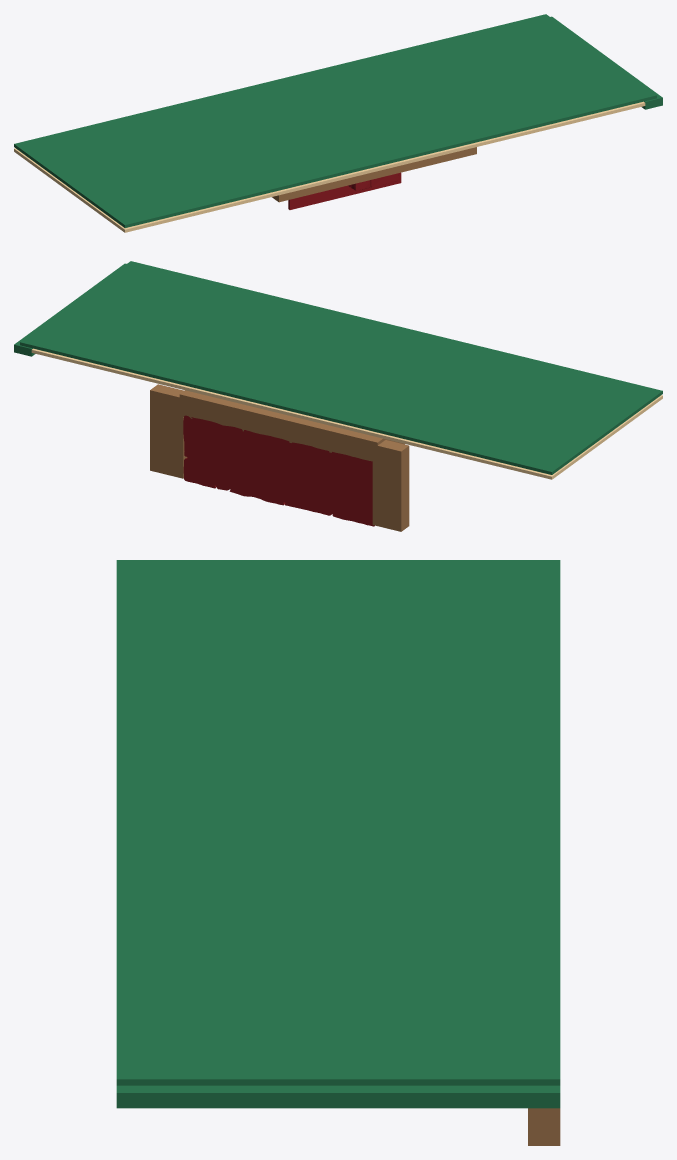
The model's file is tinker.obj.
3 renders of one model, top to bottom at view 1: azimuth 30°, elevation 25°; view 2: azimuth 150°, elevation 25°; view 3: azimuth 270°, elevation 25°, orthographic. The views are drawn at different scales.
Visible parts, largest first — view 1: group_0_2719057, group_0_16768422, group_0_11107152, group_0_9771553; view 2: group_0_2719057, group_0_9771553, group_0_11107152, group_0_16768422; view 3: group_0_2719057, group_0_11107152.
Part boxes in pixels (bbox=[...]): group_0_2719057: bbox=[14, 14, 662, 227]; group_0_16768422: bbox=[14, 101, 645, 232]; group_0_11107152: bbox=[272, 147, 476, 202]; group_0_9771553: bbox=[288, 172, 401, 209]; group_0_2719057: bbox=[14, 261, 662, 474]; group_0_9771553: bbox=[183, 415, 374, 526]; group_0_11107152: bbox=[150, 384, 409, 531]; group_0_16768422: bbox=[31, 348, 662, 479]; group_0_2719057: bbox=[116, 560, 560, 1108]; group_0_11107152: bbox=[528, 1108, 560, 1145].
Bounding box in the file's own units: 182 × 32.1 × 65.
